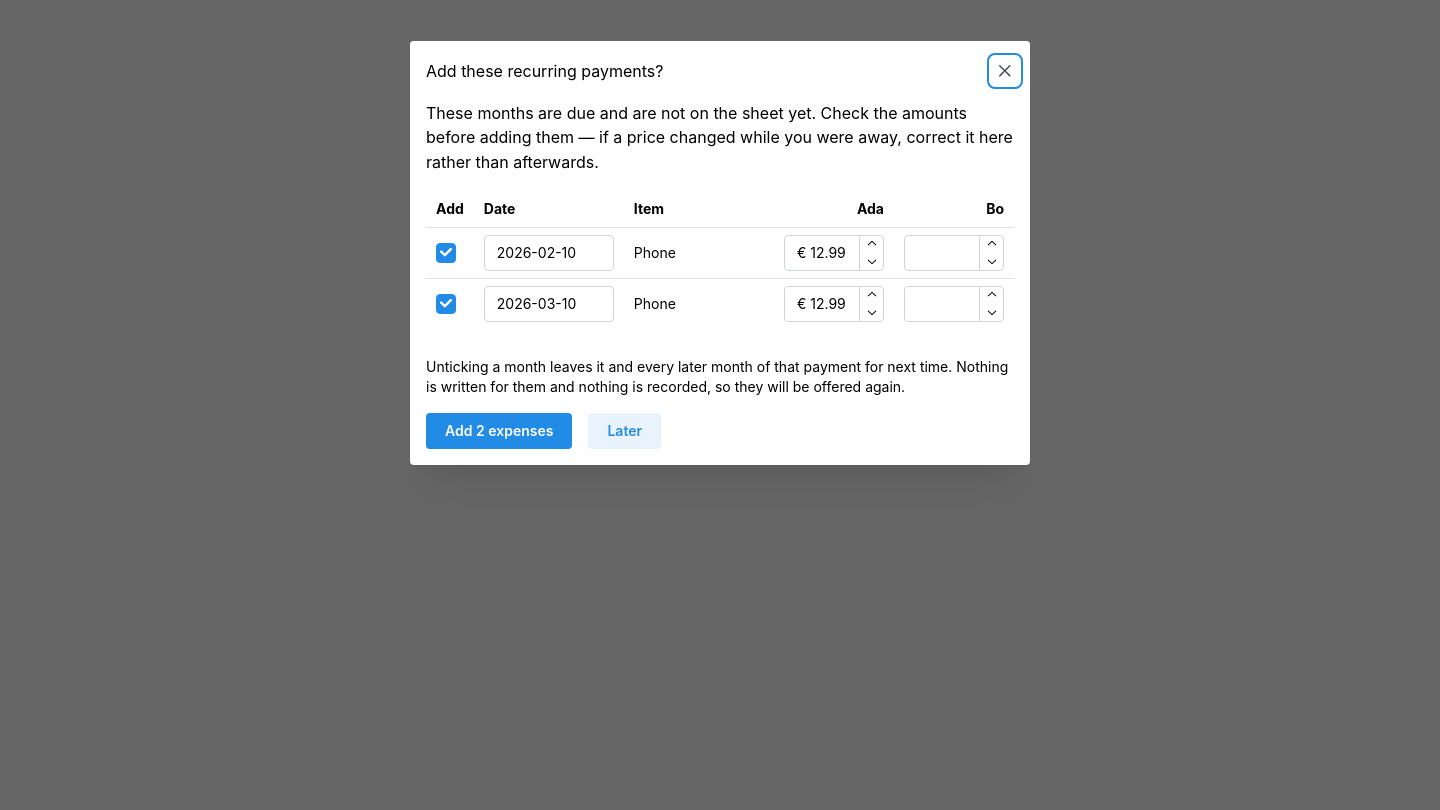
Test: RecurringPrompt › will not let a month be skipped while a later one is written
The width and height of the screenshot is (1440, 810).
Click the checkbox named "Add Phone in 2026-02" at (446, 253), box [436,243,456,263]
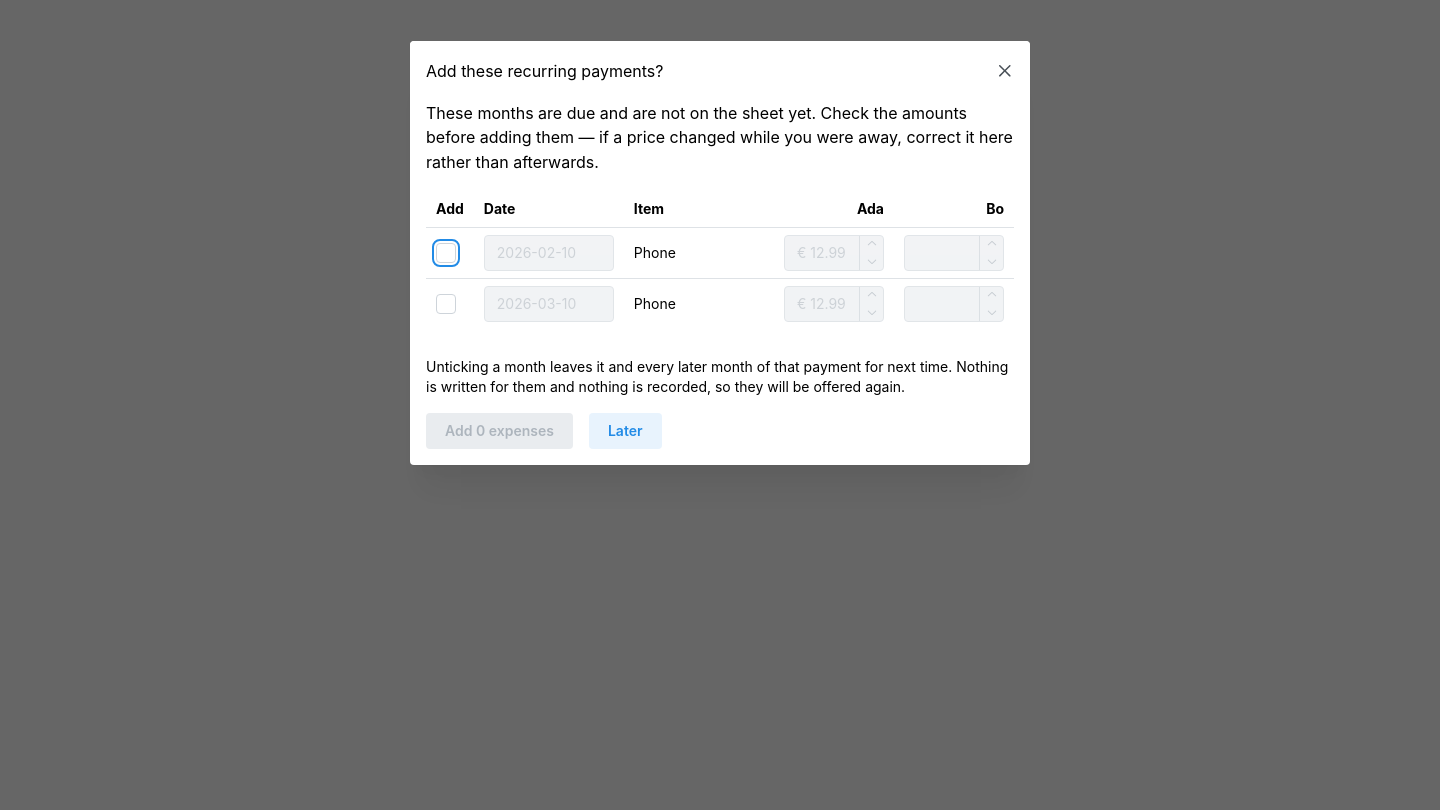
Expected: the checkbox named "Add Phone in 2026-03" is not checked, [436,294,456,314]
Expected: the button "Add 0 expenses" is disabled, [426,413,573,449]
